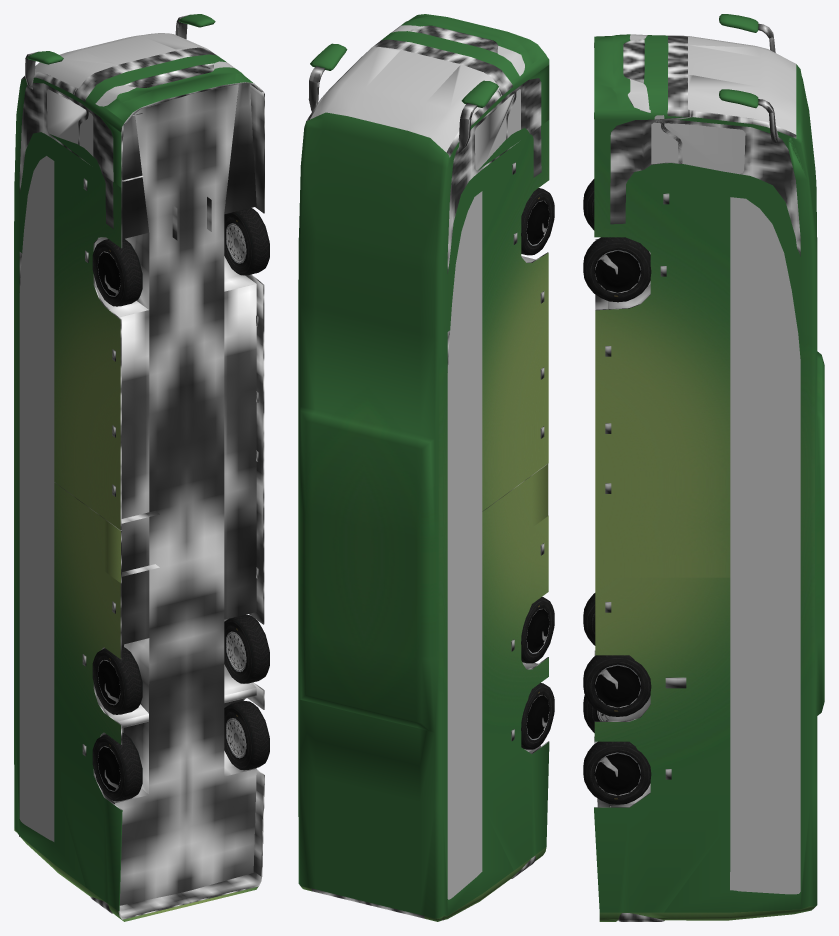
The picture shows the model from 3 angles, left to right: view 1: azimuth 30°, elevation 25°; view 2: azimuth 150°, elevation 25°; view 3: azimuth 270°, elevation 25°; orthographic projection.
Visible parts, largest first — view 1: inside and glass, bus body, Pickup_Truck_Wheel_Front_R006, Pickup_Truck_Wheel_Front_R007, Pickup_Truck_Wheel_Front_R008, door, door2; view 2: bus body, inside and glass, door, door2, Pickup_Truck_Wheel_Front_R008, Pickup_Truck_Wheel_Front_R006, Pickup_Truck_Wheel_Front_R007; view 3: bus body, inside and glass, Pickup_Truck_Wheel_Front_R008, Pickup_Truck_Wheel_Front_R007, Pickup_Truck_Wheel_Front_R006, headlight glass.
Boxes of the visible parts, box(x1,y1,x2,y2) form: inside and glass: box(19, 14, 264, 919); bus body: box(14, 14, 258, 921); Pickup_Truck_Wheel_Front_R006: box(92, 701, 269, 801); Pickup_Truck_Wheel_Front_R007: box(92, 614, 269, 714); Pickup_Truck_Wheel_Front_R008: box(92, 208, 269, 306); door: box(44, 83, 122, 187); door2: box(54, 482, 121, 583); bus body: box(298, 14, 549, 921); inside and glass: box(306, 25, 548, 920); door: box(471, 65, 549, 177); door2: box(482, 463, 548, 563); Pickup_Truck_Wheel_Front_R008: box(521, 188, 554, 255); Pickup_Truck_Wheel_Front_R006: box(521, 683, 554, 749); Pickup_Truck_Wheel_Front_R007: box(521, 597, 554, 663); bus body: box(594, 14, 824, 921); inside and glass: box(594, 23, 800, 921); Pickup_Truck_Wheel_Front_R008: box(583, 179, 651, 302); Pickup_Truck_Wheel_Front_R007: box(583, 593, 651, 716); Pickup_Truck_Wheel_Front_R006: box(583, 695, 651, 804); headlight glass: box(628, 34, 650, 112).
Bounding box in the file's own units: 2.92 × 3.44 × 13.13.
